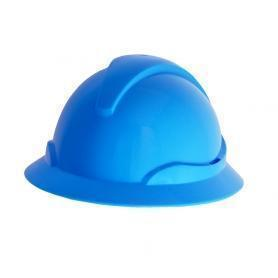helmet: (25, 49, 248, 202)
